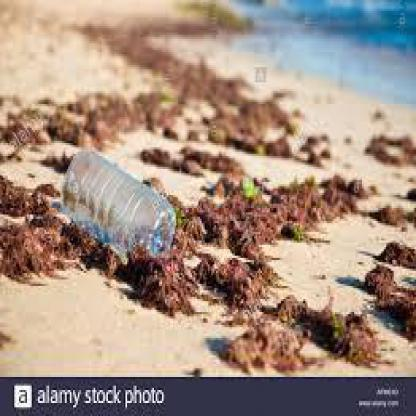plastic bottle: (61, 154, 176, 260)
